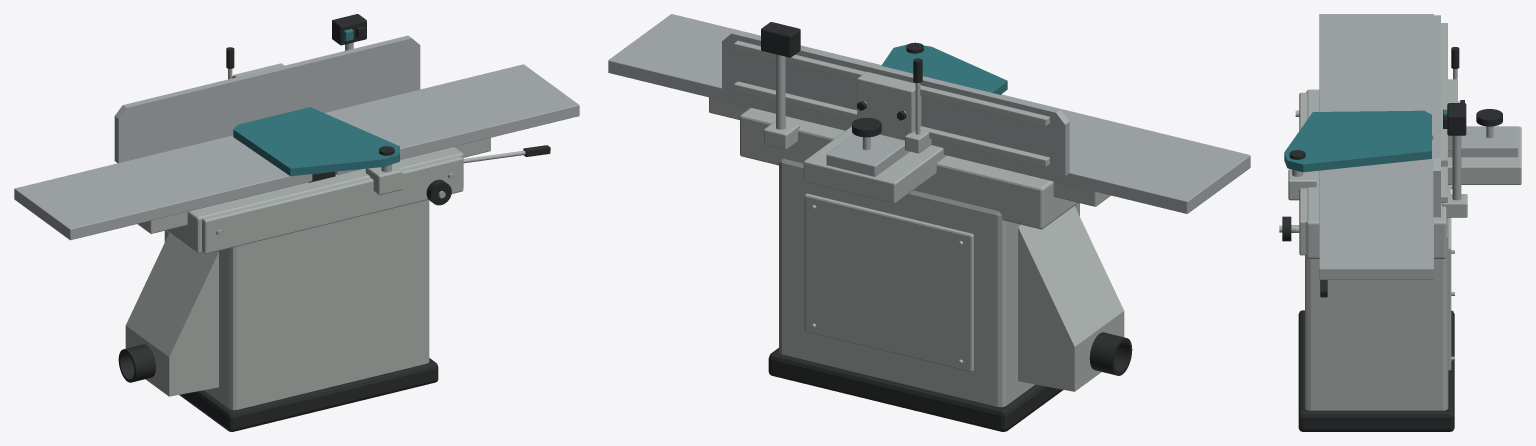
3 views of the same model, side by side, from view 1: azimuth 30°, elevation 25°; view 2: azimuth 150°, elevation 25°; view 3: azimuth 270°, elevation 25° (orthographic). The views are drawn at different scales.
Visible parts, largest first — view 1: Low enclosed cabinet, Long upright straight fence, Long exposed worktable -0.496, Long exposed worktable 0.496, Tapered side extraction hood, Front apron, Central covered cutter guard, Continuous floor plinth, Main upper casting, Hollow side outlet lip, Guard pivot bracket, Raised switch pod (+1 smaller); view 2: Rear cabinet service panel, Low enclosed cabinet, Tapered side extraction hood, Long upright straight fence, Long exposed worktable -0.496, Main upper casting, Long exposed worktable 0.496, Continuous floor plinth, Rear fence mounting base, Fence rear mounting block, Central covered cutter guard, Rear fence stiffening rail 0.865 (+7 smaller); view 3: Low enclosed cabinet, Long exposed worktable 0.496, Long exposed worktable -0.496, Central covered cutter guard, Continuous floor plinth, Rear fence mounting base, Main upper casting, Fence sliding carriage, Long upright straight fence, Front apron, Rear fence stiffening rail 0.992, Raised switch pod (+8 smaller).
Boxes of the visible parts, bbox=[...] form: Low enclosed cabinet: bbox=[164, 200, 429, 410]; Long upright straight fence: bbox=[114, 35, 420, 163]; Long exposed worktable -0.496: bbox=[14, 135, 312, 240]; Long exposed worktable 0.496: bbox=[324, 64, 579, 174]; Tapered side extraction hood: bbox=[125, 233, 218, 396]; Front apron: bbox=[202, 155, 463, 253]; Central covered cutter guard: bbox=[233, 107, 399, 176]; Continuous floor plinth: bbox=[179, 358, 438, 431]; Main upper casting: bbox=[166, 147, 463, 253]; Hollow side outlet lip: bbox=[118, 344, 155, 382]; Guard pivot bracket: bbox=[365, 164, 402, 194]; Raised switch pod: bbox=[332, 14, 366, 45]; Rear cabinet service panel: bbox=[804, 193, 973, 371]; Low enclosed cabinet: bbox=[779, 158, 1079, 407]; Tapered side extraction hood: bbox=[1018, 206, 1124, 391]; Long upright straight fence: bbox=[722, 30, 1069, 175]; Long exposed worktable -0.496: bbox=[931, 94, 1250, 213]; Main upper casting: bbox=[740, 107, 1078, 229]; Long exposed worktable 0.496: bbox=[608, 14, 881, 130]; Continuous floor plinth: bbox=[768, 348, 1063, 431]; Rear fence mounting base: bbox=[803, 126, 946, 203]; Fence rear mounting block: bbox=[857, 71, 921, 140]; Central covered cutter guard: bbox=[881, 44, 1007, 94]; Rear fence stiffening rail 0.865: bbox=[734, 81, 1049, 166]; Low enclosed cabinet: bbox=[1305, 185, 1448, 410]; Long exposed worktable 0.496: bbox=[1319, 147, 1433, 279]; Long exposed worktable -0.496: bbox=[1319, 14, 1433, 140]; Central covered cutter guard: bbox=[1284, 110, 1431, 172]; Continuous floor plinth: bbox=[1298, 310, 1454, 431]; Rear fence mounting base: bbox=[1432, 126, 1521, 184]; Main upper casting: bbox=[1306, 89, 1446, 258]; Fence sliding carriage: bbox=[1448, 126, 1518, 157]; Long upright straight fence: bbox=[1433, 15, 1440, 217]; Front apron: bbox=[1299, 92, 1306, 255]; Rear fence stiffening rail 0.992: bbox=[1441, 23, 1447, 166]; Raised switch pod: bbox=[1447, 103, 1466, 135].
Bounding box in the file's own units: 1.89 × 1.1 × 0.76.
